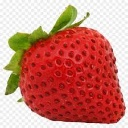strawberry: (8, 6, 128, 125)
